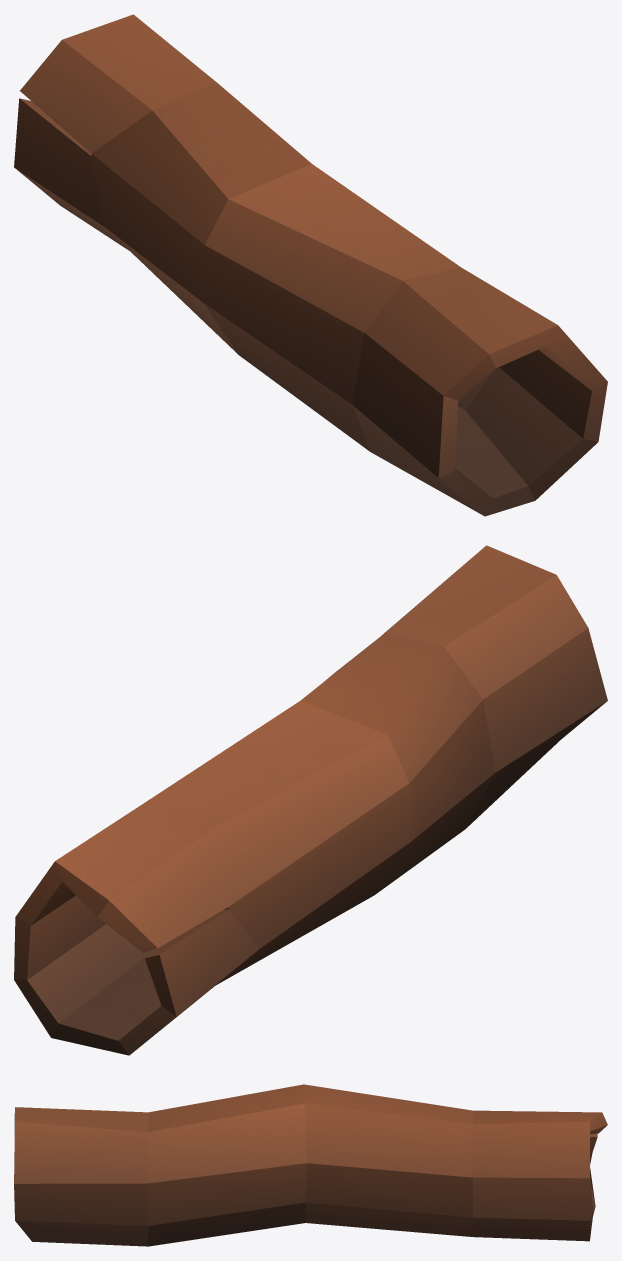
The model's file is maderaCaida.fbx.
3 renders of one model, top to bottom at view 1: azimuth 30°, elevation 25°; view 2: azimuth 150°, elevation 25°; view 3: azimuth 270°, elevation 25°, orthographic. The views are drawn at different scales.
Parts seen in each view (by area): view 1: maderaCaida; view 2: maderaCaida; view 3: maderaCaida.
Boxes of the visible parts, x1,y1,x2,y2 form: maderaCaida: (14,14,607,516); maderaCaida: (14,545,607,1055); maderaCaida: (14,1084,607,1246).
Bounding box in the file's own units: 360 × 348 × 1422.
